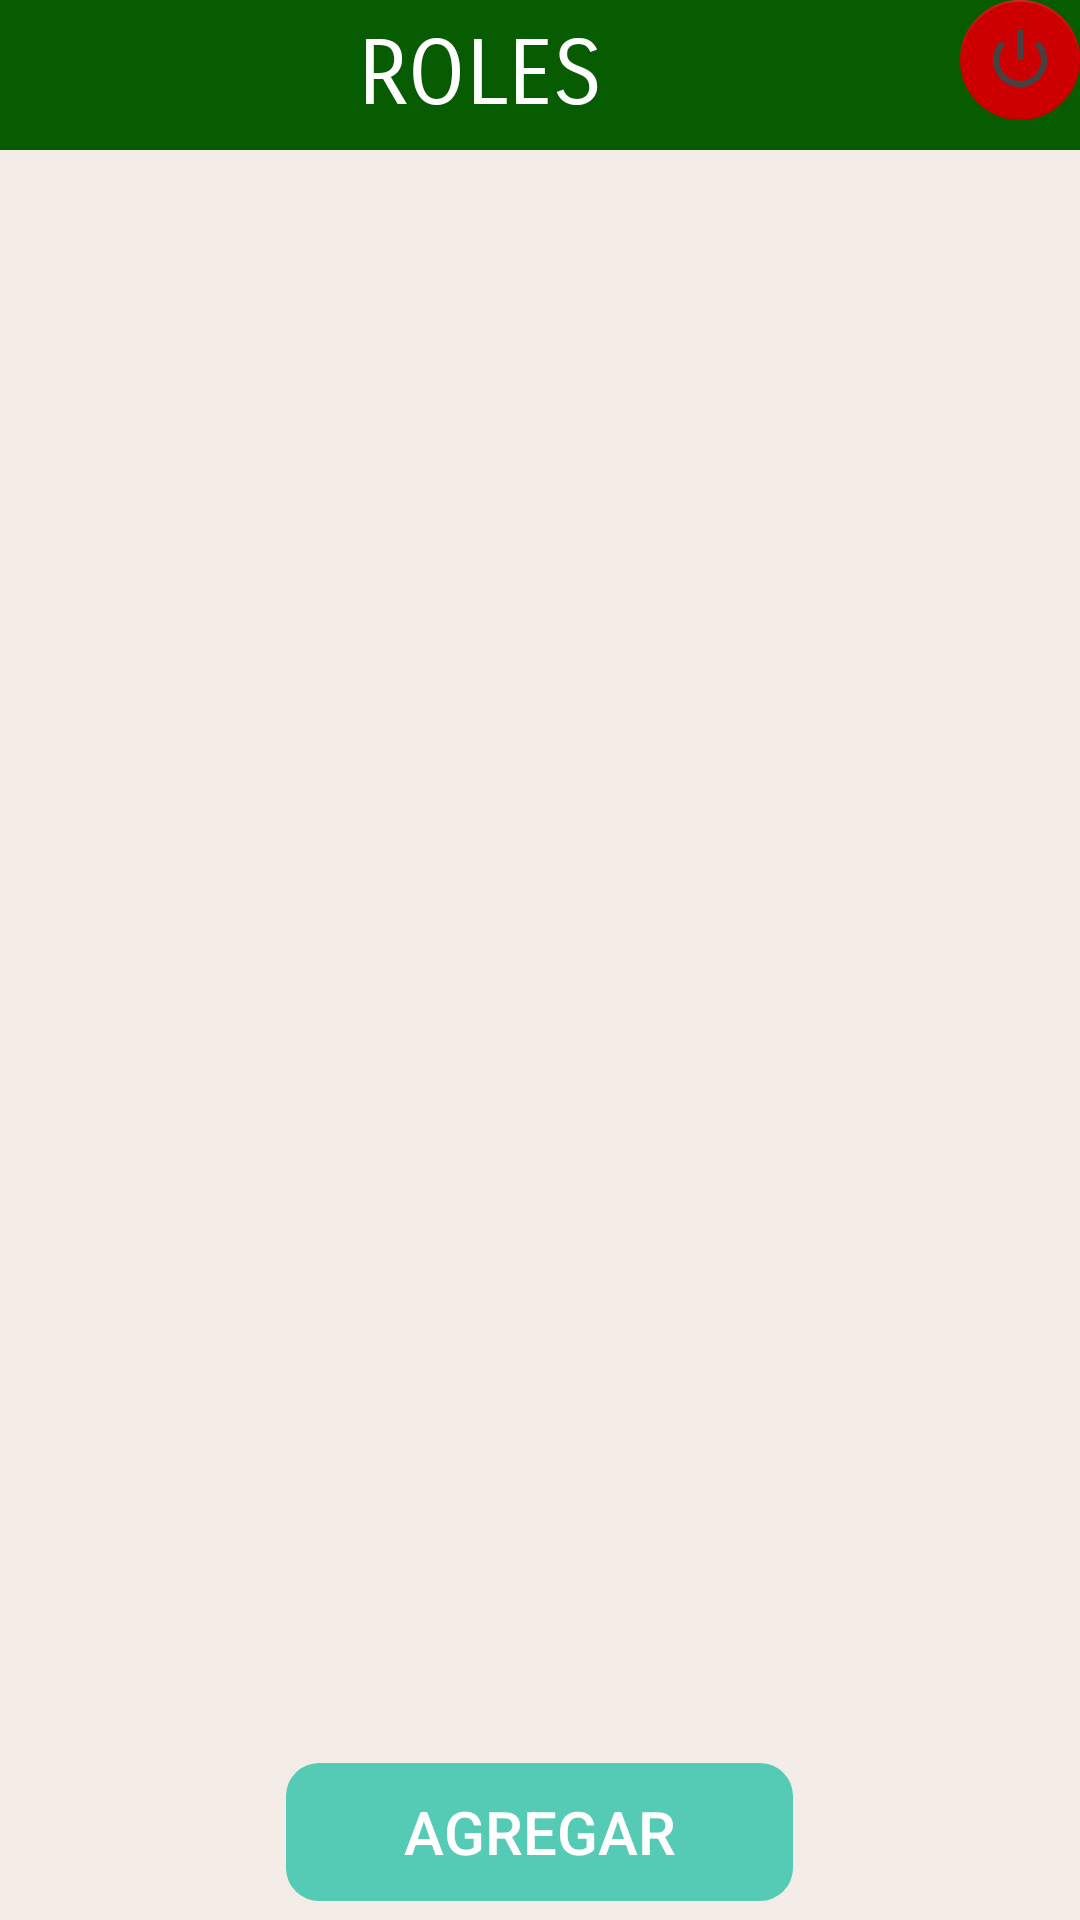

Icon click points for this 1080*1920 phone screenshot, format (x,y):
lock power off: (1020,60)
